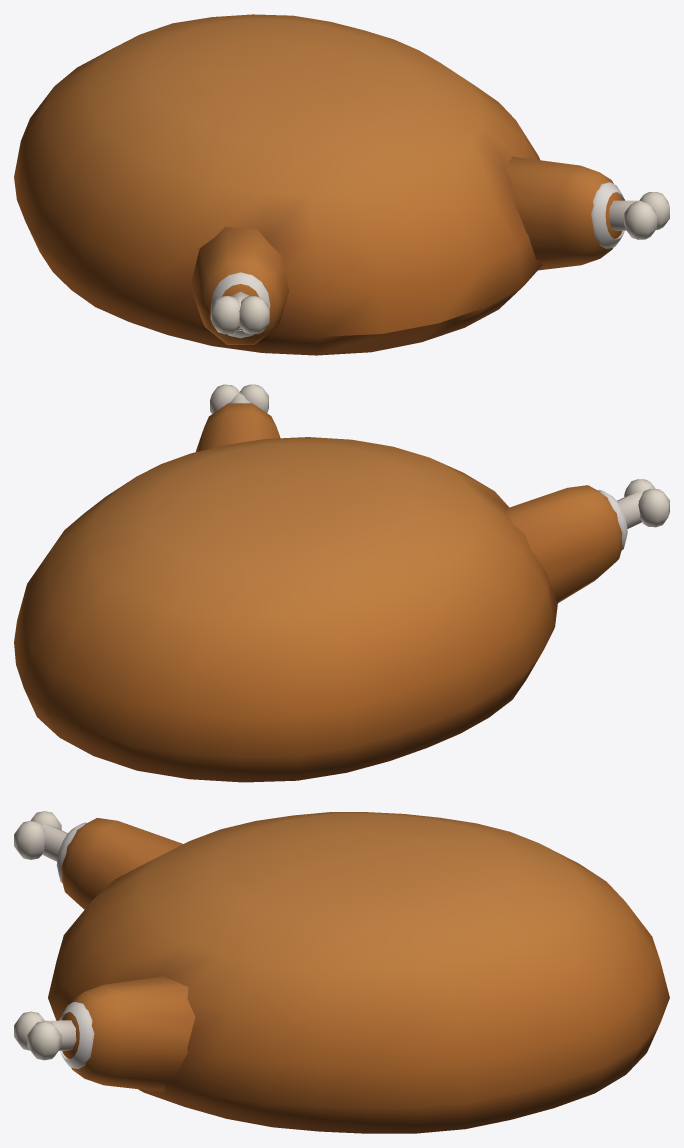
File: turkey.glb
3 views of the same model, one above another, from view 1: azimuth 30°, elevation 25°; view 2: azimuth 150°, elevation 25°; view 3: azimuth 270°, elevation 25° (orthographic).
Parts seen in each view (by area): view 1: body; view 2: body; view 3: body.
Part boxes in pixels (left/top/right/bottom): body: left=14, top=14, right=669, bottom=355; body: left=14, top=384, right=669, bottom=782; body: left=14, top=811, right=669, bottom=1133.
Size of the model in its own units: 0.7752 by 0.3 by 0.9573.
